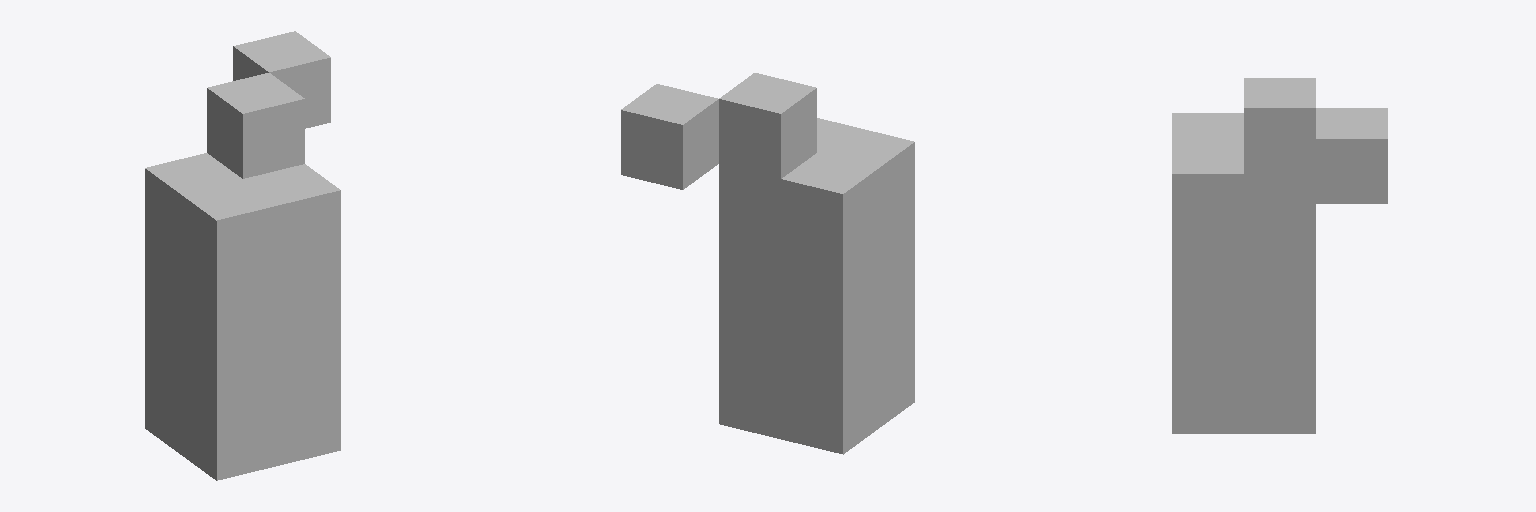
The model's file is dynamite.obj.
3 renders of one model, left to right at view 1: azimuth 30°, elevation 25°; view 2: azimuth 150°, elevation 25°; view 3: azimuth 270°, elevation 25°, orthographic.
Parts seen in each view (by area): view 1: object 1; view 2: object 1; view 3: object 1.
Boxes of the visible parts, box(x1,y1,x2,y2) form: object 1: box(145, 31, 340, 480); object 1: box(621, 73, 914, 454); object 1: box(1172, 78, 1387, 433).
Bounding box in the file's own units: 0.3 × 0.5 × 0.3.